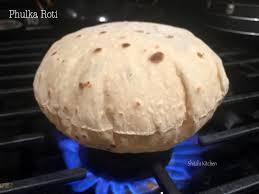roti phulka: (41, 21, 250, 157)
